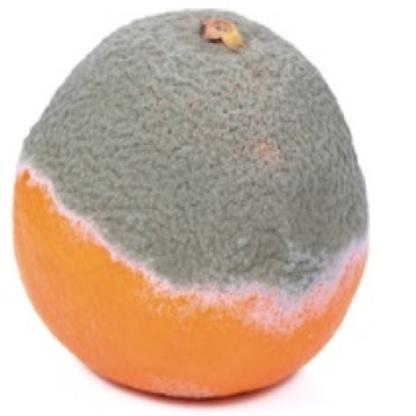rotten: (16, 8, 370, 401)
